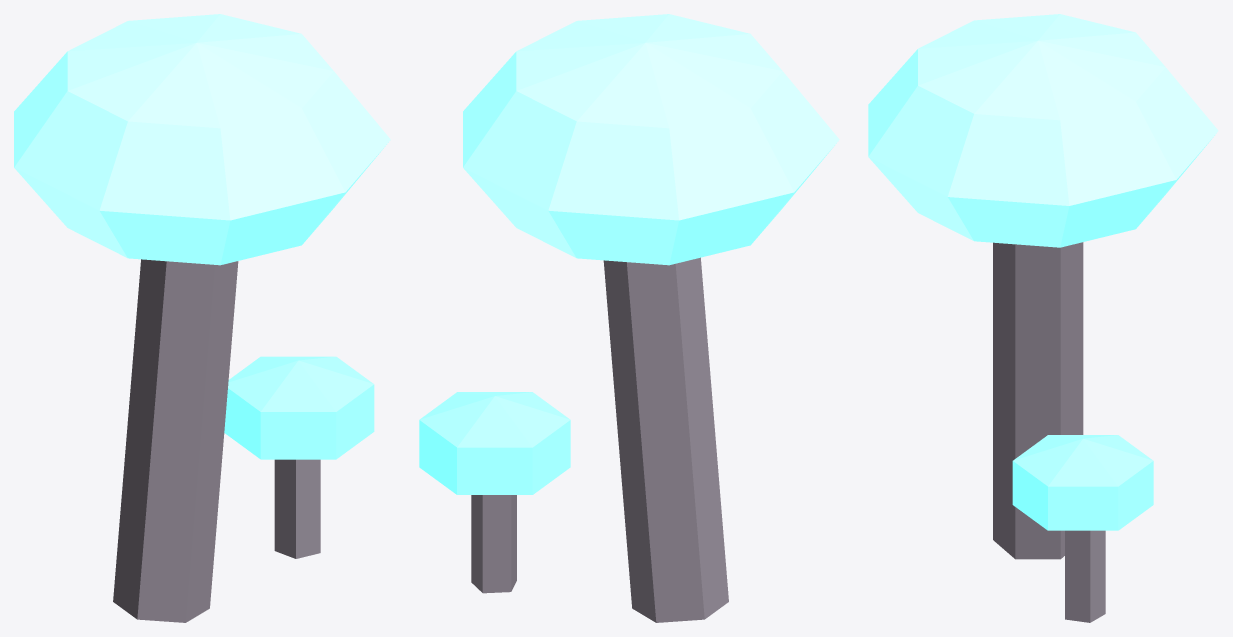
Rendered from lampe_champignon_modele.glb.
3 renders of one model, left to right at view 1: azimuth 30°, elevation 25°; view 2: azimuth 150°, elevation 25°; view 3: azimuth 270°, elevation 25°, orthographic. The views are drawn at different scales.
Parts seen in each view (by area): view 1: P2.008, P1.008, P3.002, P4.009; view 2: P2.008, P1.008, P3.002, P4.009; view 3: P2.008, P1.008, P3.002, P4.009.
Part boxes in pixels (bbox=[...]): P2.008: bbox=[14, 14, 390, 265]; P1.008: bbox=[113, 259, 238, 622]; P3.002: bbox=[224, 356, 374, 459]; P4.009: bbox=[274, 459, 320, 558]; P2.008: bbox=[463, 14, 839, 265]; P1.008: bbox=[603, 257, 728, 622]; P3.002: bbox=[419, 392, 570, 494]; P4.009: bbox=[471, 495, 516, 593]; P2.008: bbox=[868, 14, 1218, 247]; P1.008: bbox=[993, 242, 1083, 559]; P3.002: bbox=[1012, 435, 1153, 530]; P4.009: bbox=[1065, 530, 1105, 622].
Size of the model in its own units: 0.4145 by 0.6328 by 0.3879.
